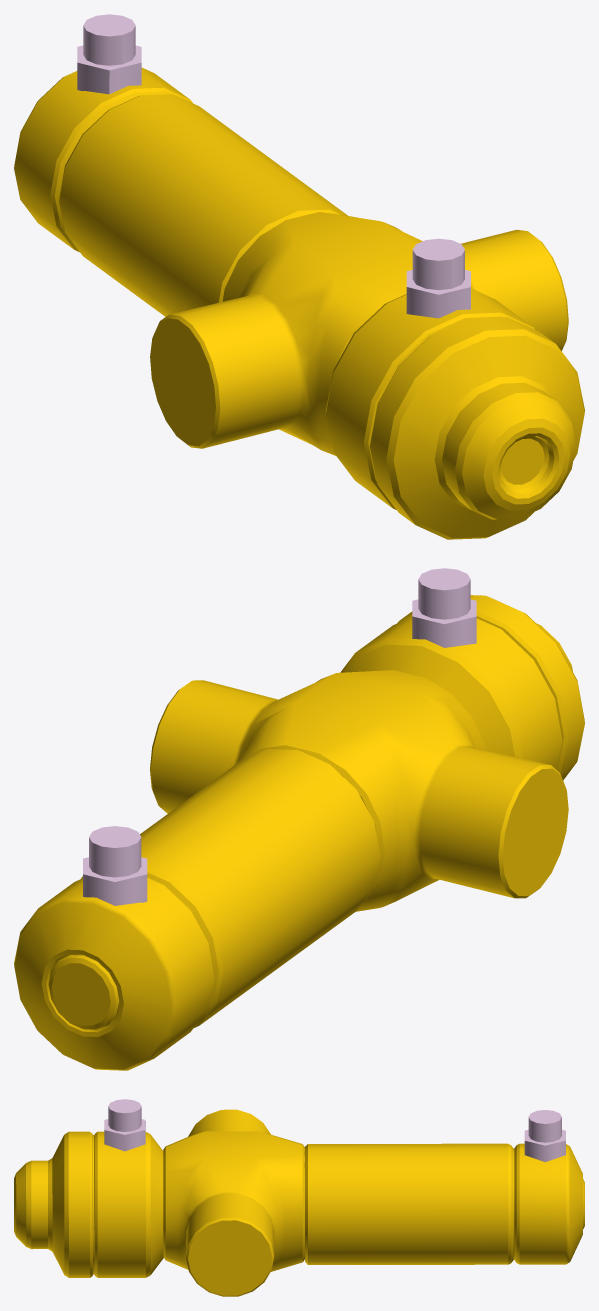
File: Earthmover_Body_RipperCylinder_01a_snaps005.fbx
3 renders of one model, top to bottom at view 1: azimuth 30°, elevation 25°; view 2: azimuth 150°, elevation 25°; view 3: azimuth 270°, elevation 25°, orthographic. The views are drawn at different scales.
Parts seen in each view (by area): view 1: Earthmover_Body_RipperCylinder_01a_snaps005; view 2: Earthmover_Body_RipperCylinder_01a_snaps005; view 3: Earthmover_Body_RipperCylinder_01a_snaps005.
Part boxes in pixels (<box>): Earthmover_Body_RipperCylinder_01a_snaps005: <box>14,14,584,539</box>; Earthmover_Body_RipperCylinder_01a_snaps005: <box>14,568,584,1070</box>; Earthmover_Body_RipperCylinder_01a_snaps005: <box>14,1099,584,1296</box>.
Size of the model in its own units: 51.2 by 35.67 by 112.
